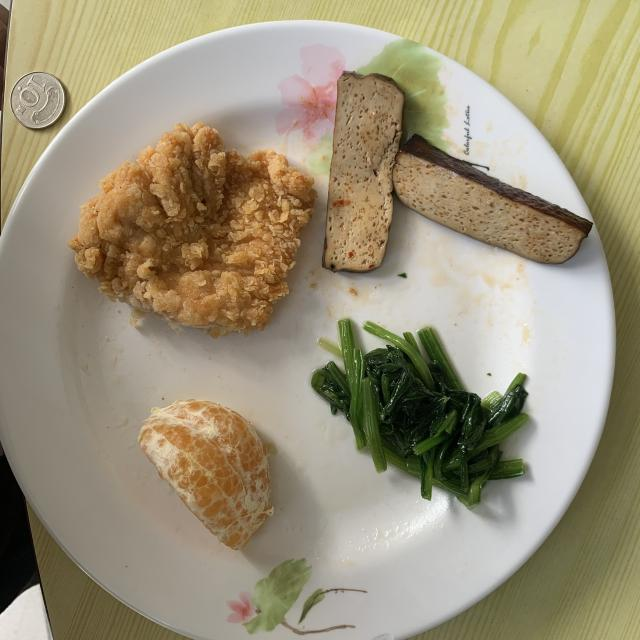coin: (10, 71, 66, 129)
firm tofu: (322, 71, 592, 271)
fried chicken cutlet: (69, 122, 318, 338)
mustard greens: (311, 319, 529, 509)
